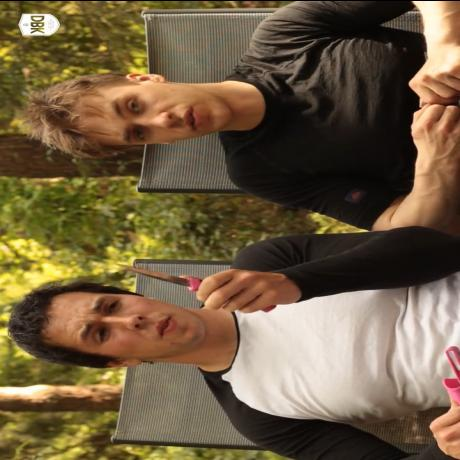1: (18, 16, 452, 211), (15, 242, 460, 428)
weapon: (112, 260, 200, 291)
